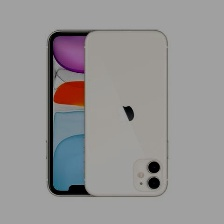phone: (43, 26, 135, 200), (82, 29, 170, 199)
